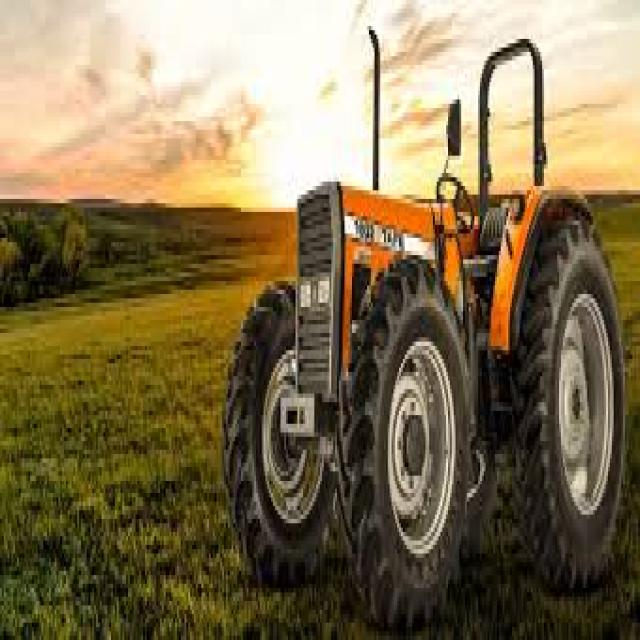tractor: (224, 39, 623, 627)
